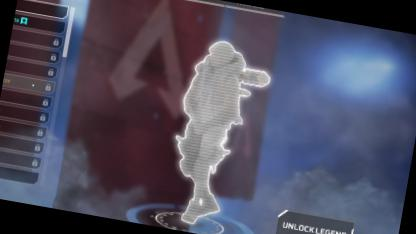Target: (152, 28, 276, 232)
